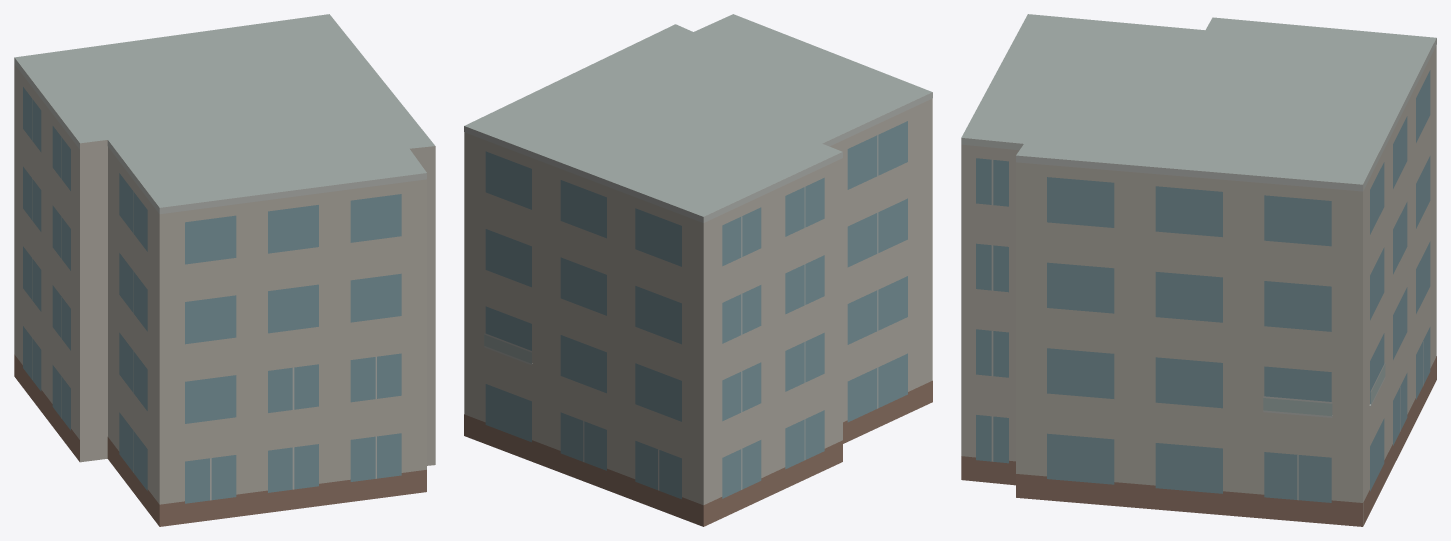
The model's file is survey-upis-33042293.glb.
3 renders of one model, left to right at view 1: azimuth 30°, elevation 25°; view 2: azimuth 150°, elevation 25°; view 3: azimuth 270°, elevation 25°, orthographic. The views are drawn at different scales.
Visible parts, largest first — view 1: survey-upis-33042293.tmp; view 2: survey-upis-33042293.tmp; view 3: survey-upis-33042293.tmp.
Part boxes in pixels (x1=…): survey-upis-33042293.tmp: x1=14, y1=14, x2=435, y2=526; survey-upis-33042293.tmp: x1=464, y1=14, x2=932, y2=526; survey-upis-33042293.tmp: x1=961, y1=14, x2=1436, y2=526.
Bounding box in the file's own units: 13.06 × 12.2 × 15.37.
